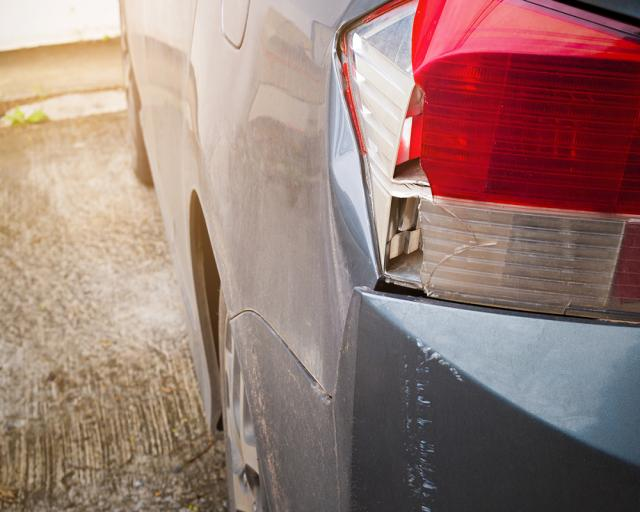lamp broken: (335, 0, 640, 324)
scratch: (398, 336, 468, 512)
